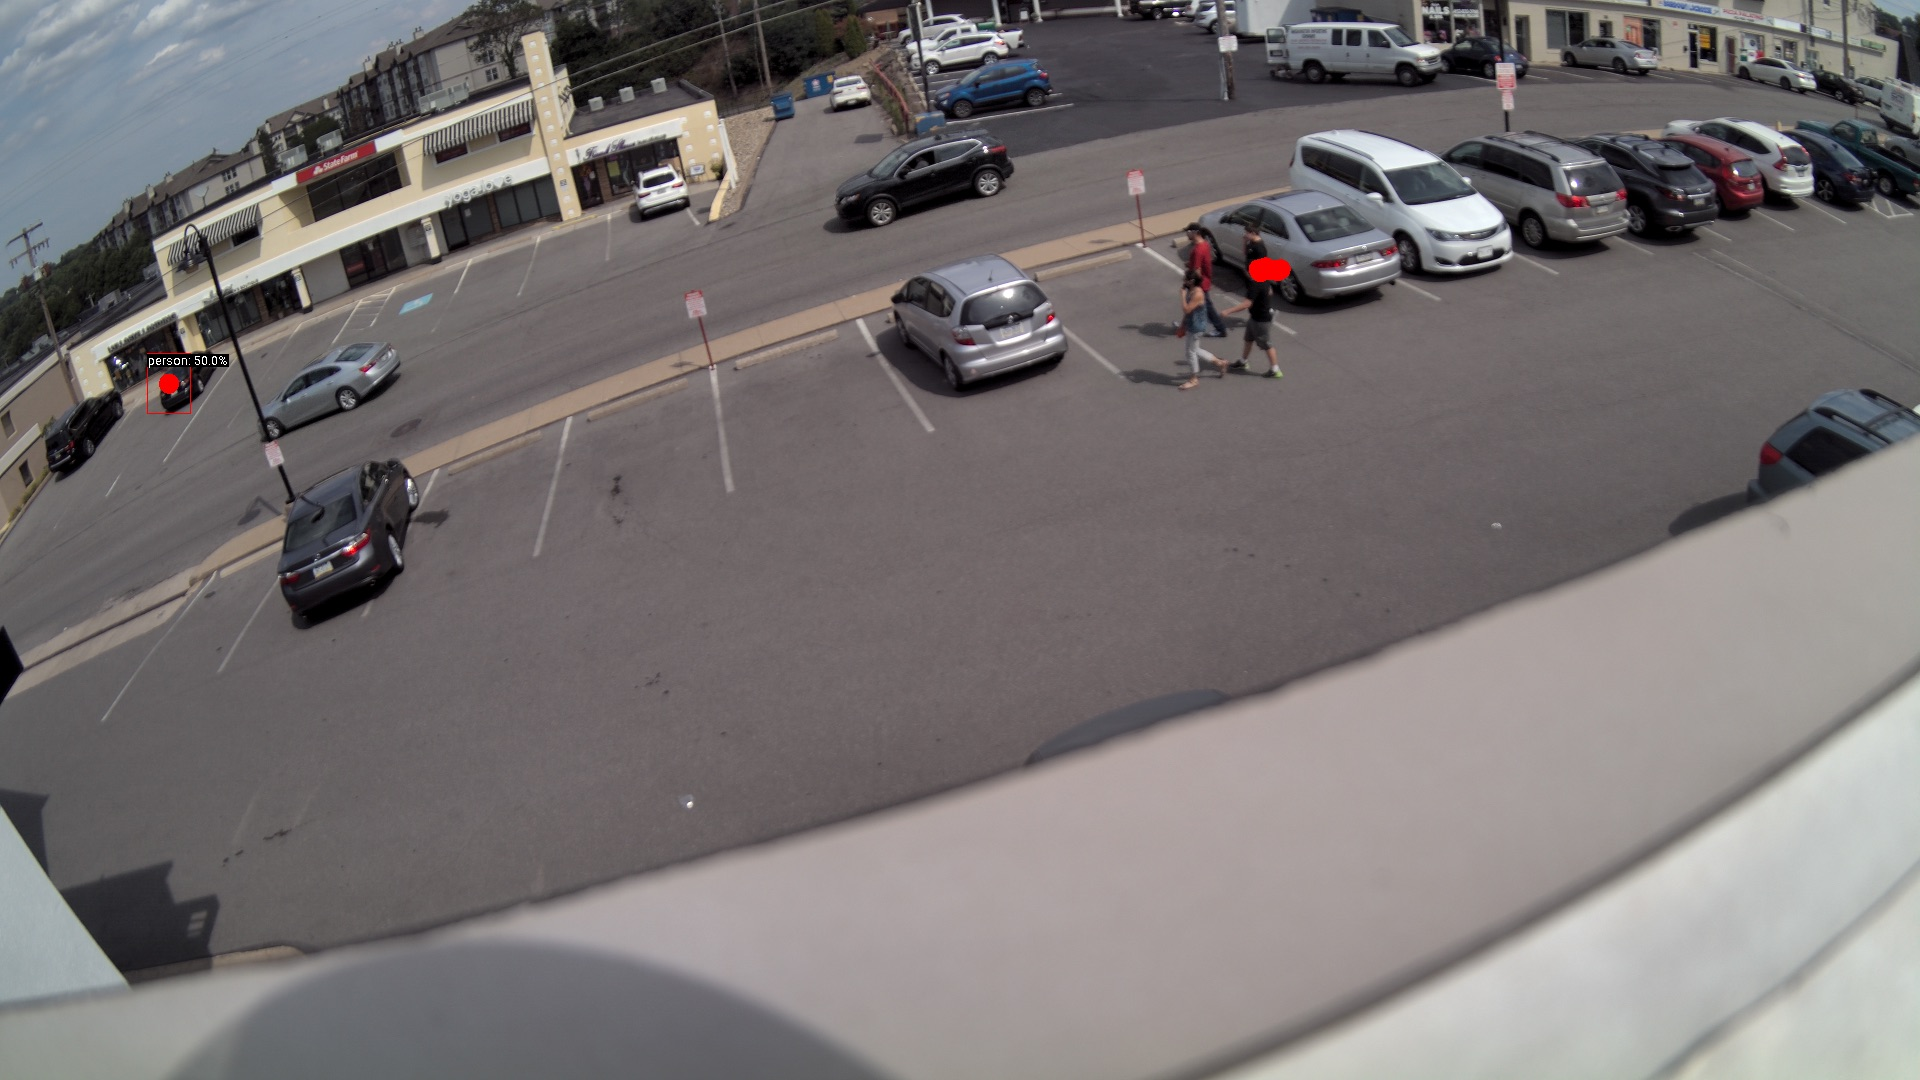person: (1240, 222, 1282, 385), (1182, 275, 1225, 396), (1188, 225, 1230, 342)
